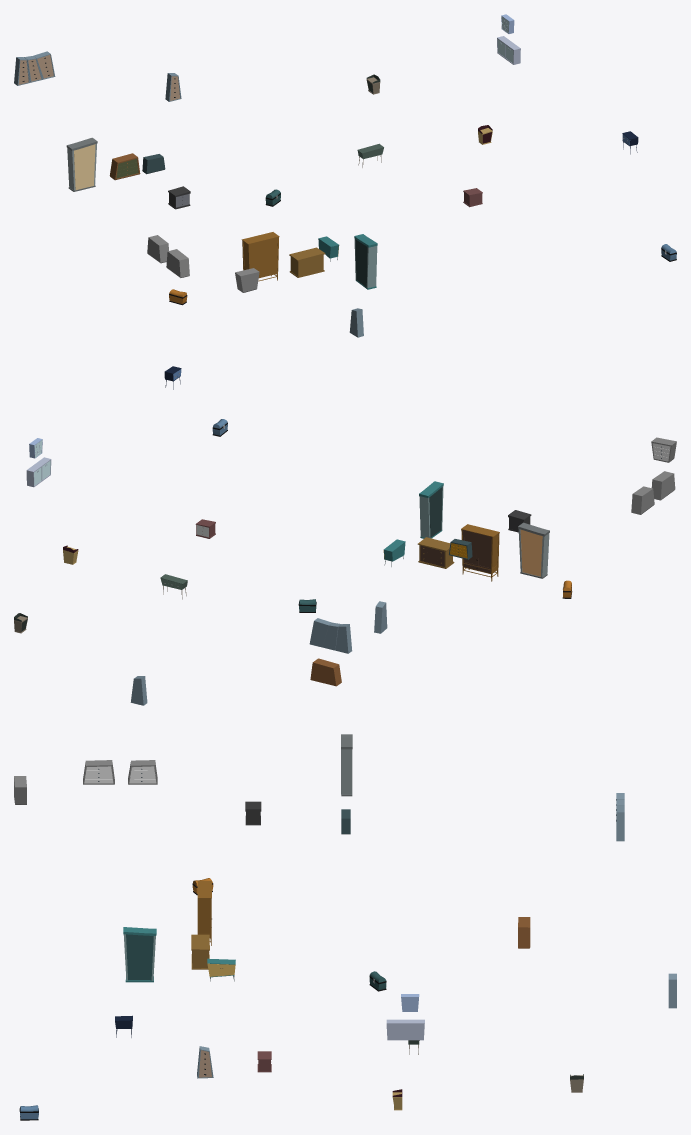
File: Interractive stuff.fbx
3 views of the same model, one above another, from view 1: azimuth 30°, elevation 25°; view 2: azimuth 150°, elevation 25°; view 3: azimuth 270°, elevation 25° (orthographic). The views are drawn at different scales.
Parts seen in each view (by area): view 1: kitchen rack.001, cupboard bed room, cupboard living room.002, kitchen ambry.001, cabinet locker .005, cabinet locker .038; view 2: cupboard living room.002, kitchen rack.001, cupboard bed room, kitchen locker, cabinet locker .005, cabinet locker .010, kitchen ambry.001; view 3: kitchen rack.001, cupbord bathroom room.001, cupboard bed room, kitchen ambry.001, cupboard living room.001, cupboard living room.003, cupboard living room.002.
Part boxes in pixels (x1,y1,x2,y2): kitchen rack.001: [241, 232, 279, 281]; cupboard bed room: [66, 137, 97, 191]; cupboard living room.002: [354, 234, 377, 289]; kitchen ambry.001: [289, 247, 325, 277]; cabinet locker .005: [166, 249, 189, 277]; cabinet locker .038: [235, 268, 259, 292]; cupboard living room.002: [419, 481, 443, 538]; kitchen rack.001: [461, 524, 499, 581]; cupboard bed room: [518, 522, 549, 578]; kitchen locker: [310, 658, 341, 686]; cabinet locker .005: [651, 471, 675, 500]; cabinet locker .010: [631, 486, 654, 514]; kitchen ambry.001: [417, 537, 454, 568]; kitchen rack.001: [197, 880, 211, 945]; cupbord bathroom room.001: [386, 1019, 424, 1040]; cupboard bed room: [341, 734, 352, 796]; kitchen ambry.001: [191, 934, 209, 969]; cupboard living room.001: [126, 934, 139, 980]; cupboard living room.003: [140, 935, 153, 980]; cupboard living room.002: [123, 927, 156, 982].
Bounding box in the file's own units: 36.83 × 14.59 × 39.67.
